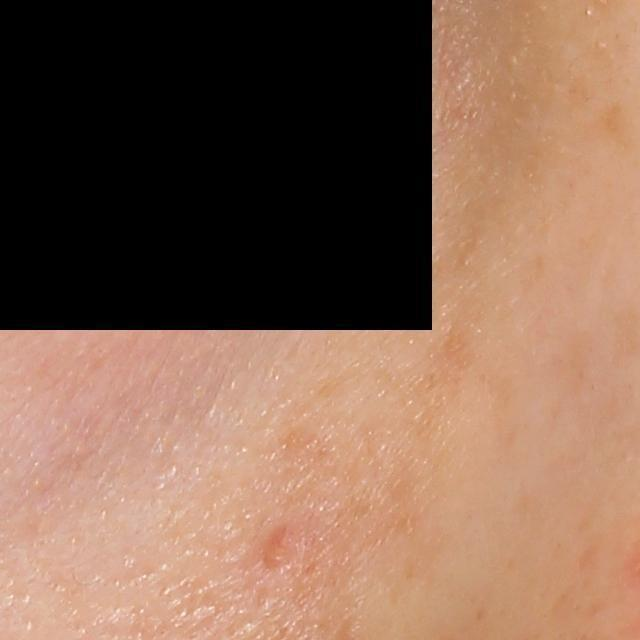melasma: (437, 310, 485, 378), (596, 99, 640, 159)
papule: (253, 518, 298, 574)
